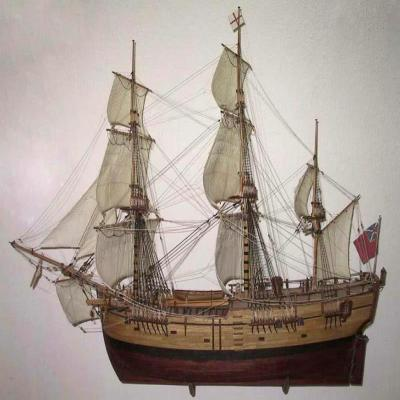other: (10, 44, 388, 397)
